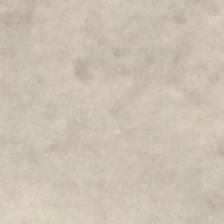Non_Crack: (27, 35, 193, 172)
